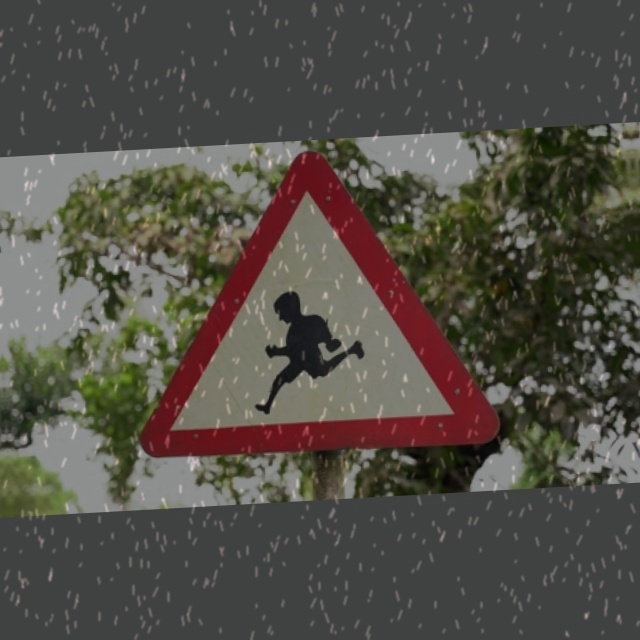School_Ahead: (139, 145, 496, 461)
